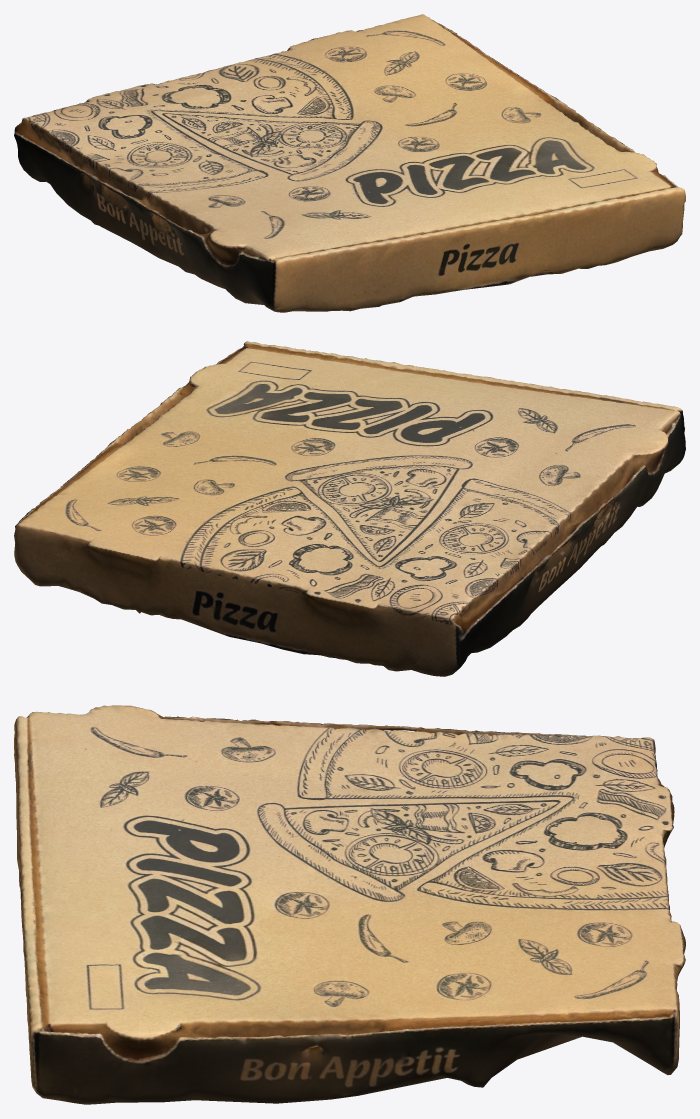
The model's file is 3DModel_LowPoly.obj.
3 renders of one model, top to bottom at view 1: azimuth 30°, elevation 25°; view 2: azimuth 150°, elevation 25°; view 3: azimuth 270°, elevation 25°, orthographic. The views are drawn at different scales.
Visible parts, largest first — view 1: 3DModel_LowPoly; view 2: 3DModel_LowPoly; view 3: 3DModel_LowPoly.
Part boxes in pixels (x1=…): 3DModel_LowPoly: x1=14, y1=14, x2=685, y2=312; 3DModel_LowPoly: x1=14, y1=341, x2=685, y2=676; 3DModel_LowPoly: x1=14, y1=705, x2=685, y2=1104.
Size of the model in its own units: 0.3149 by 0.0636 by 0.3018.
1 material, 1 textured.
